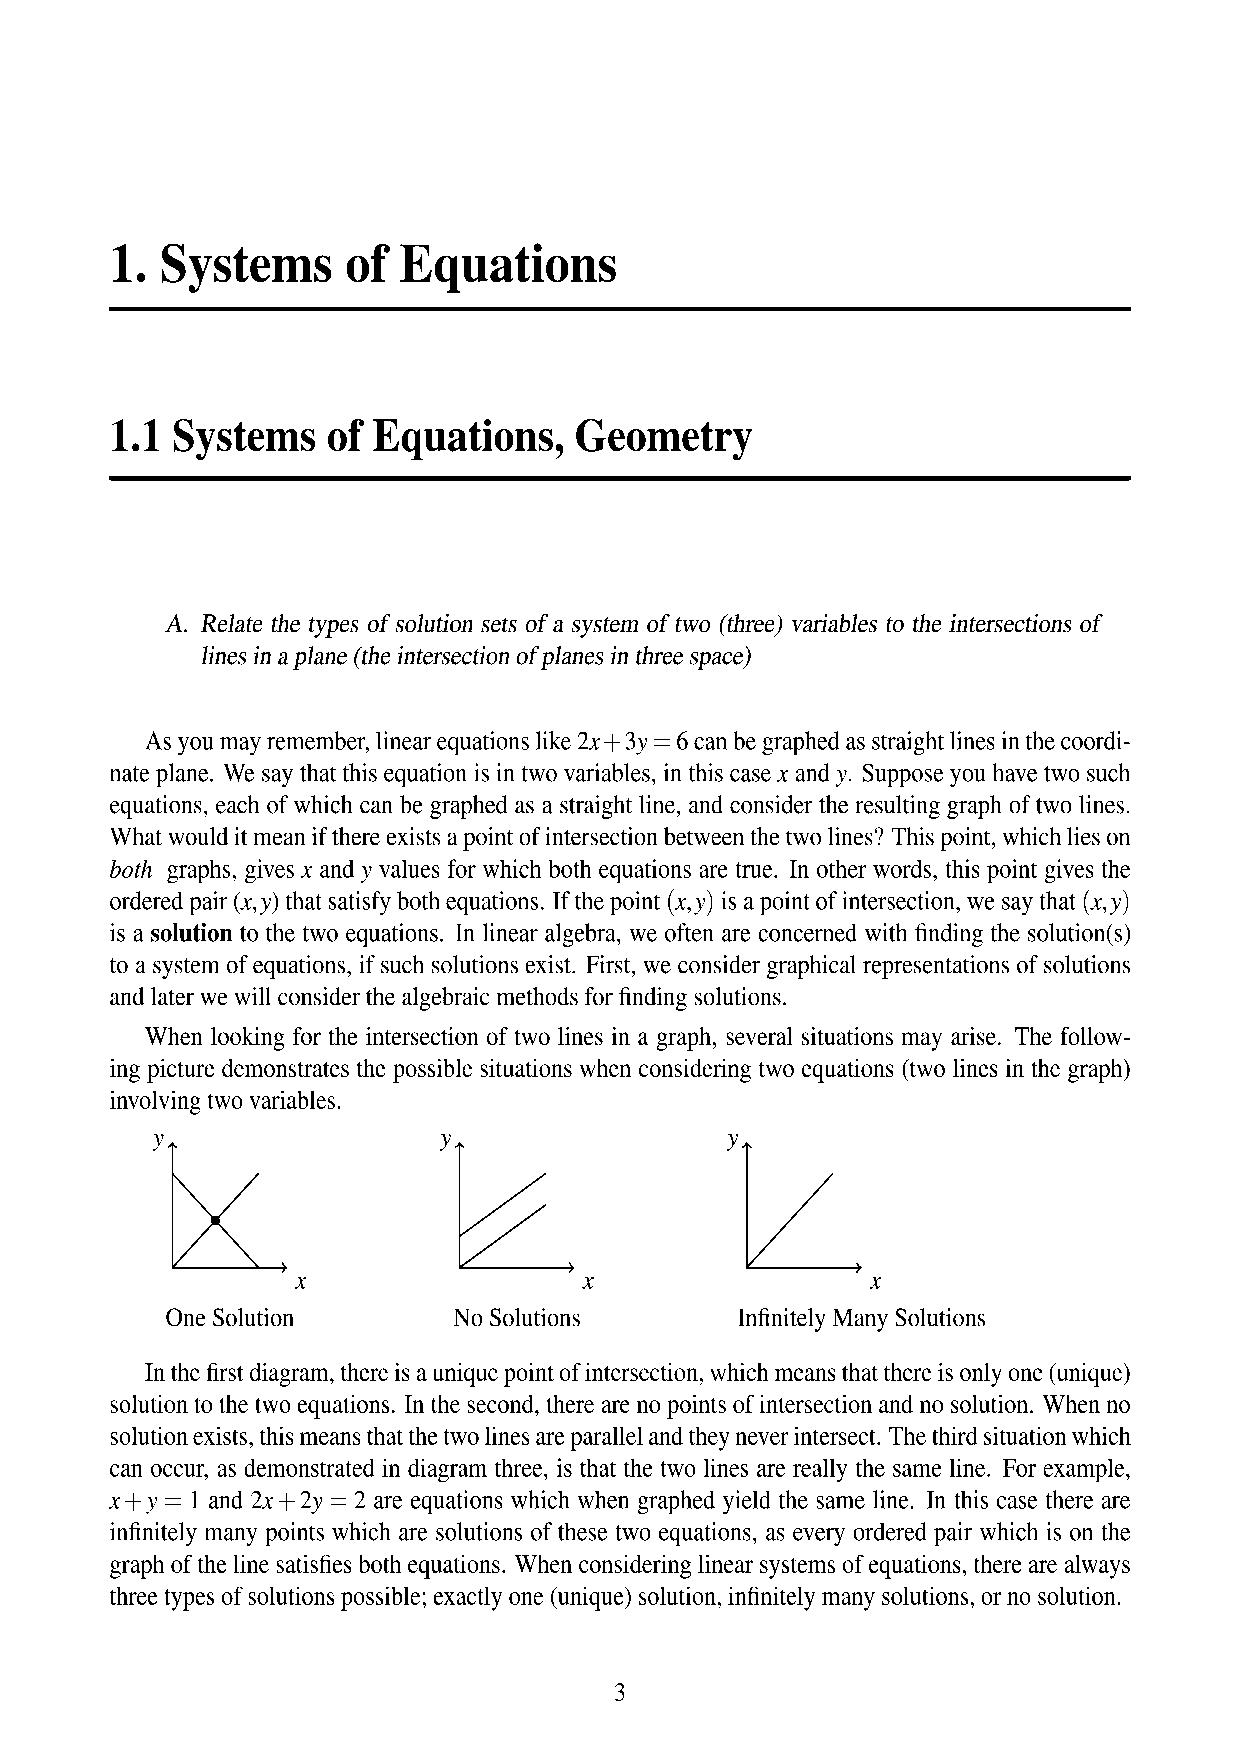chapter: (110, 413, 753, 464), (110, 238, 620, 297)
content: (103, 608, 1137, 1614)
content_pagenumber: (612, 1678, 629, 1707)
